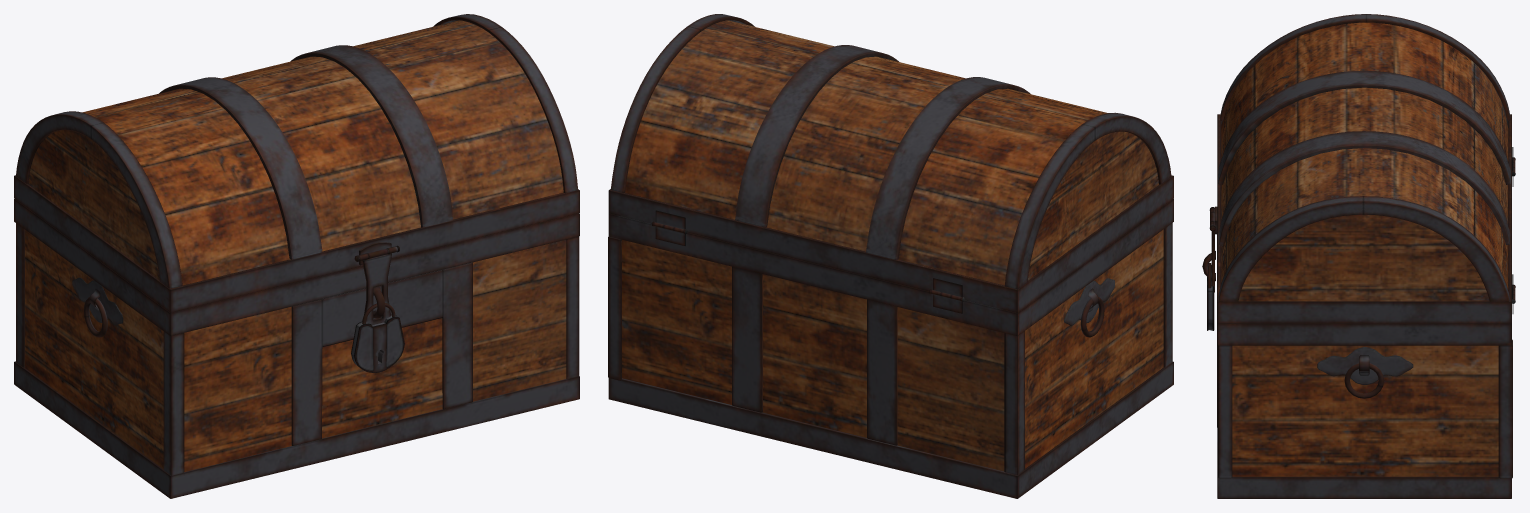
Rendered from old_treasure_chest.glb.
3 renders of one model, left to right at view 1: azimuth 30°, elevation 25°; view 2: azimuth 150°, elevation 25°; view 3: azimuth 270°, elevation 25°, orthographic. The views are drawn at different scales.
Visible parts, largest first — view 1: Chest6, Chest15, Chest1, Chest14, Chest7, Chest13, Chest16, Chest11, Chest5, Chest17, Chest8, PadLock7 (+4 smaller); view 2: Chest6, Chest15, Chest1, Chest14, Chest13, Chest16, Chest11, Chest5, Chest2, Chest12, Chest17, Chest3 (+3 smaller); view 3: Chest6, Chest15, Chest14, Chest17, Chest13, Chest1, Chest16, Chest11, Chest5, Chest10, Chest9, Handle1_1 (+2 smaller).
Part boxes in pixels (x1,y1,x2,y2): Chest6: (28, 20, 563, 285); Chest15: (25, 230, 566, 471); Chest1: (14, 361, 579, 498); Chest14: (14, 175, 579, 312); Chest7: (291, 262, 472, 445); Chest13: (14, 199, 579, 335); Chest16: (159, 77, 322, 259); Chest11: (290, 45, 453, 227); Chest5: (16, 111, 182, 288); Chest17: (433, 14, 577, 193); Chest8: (163, 331, 184, 475); PadLock7: (351, 314, 404, 372); Chest6: (625, 20, 1158, 285); Chest15: (622, 229, 1163, 471); Chest1: (608, 361, 1173, 498); Chest14: (608, 175, 1173, 312); Chest13: (608, 199, 1173, 335); Chest16: (866, 77, 1030, 259); Chest11: (735, 45, 898, 227); Chest5: (1004, 112, 1171, 289); Chest2: (732, 266, 762, 412); Chest12: (867, 299, 897, 445); Chest17: (611, 14, 754, 192); Chest3: (1004, 331, 1024, 474); Chest6: (1221, 22, 1508, 301); Chest15: (1232, 345, 1498, 476); Chest14: (1217, 114, 1511, 323); Chest17: (1218, 196, 1509, 301); Chest13: (1217, 323, 1511, 345); Chest1: (1217, 427, 1511, 498); Chest16: (1218, 70, 1510, 184); Chest11: (1219, 131, 1509, 246); Chest5: (1220, 14, 1510, 120); Chest10: (1498, 339, 1512, 478); Chest9: (1218, 345, 1232, 478); Handle1_1: (1317, 347, 1413, 384).
Bounding box in the file's own units: 30.68 × 22.48 × 21.47.
Materials: 2 (2 with a texture image).
